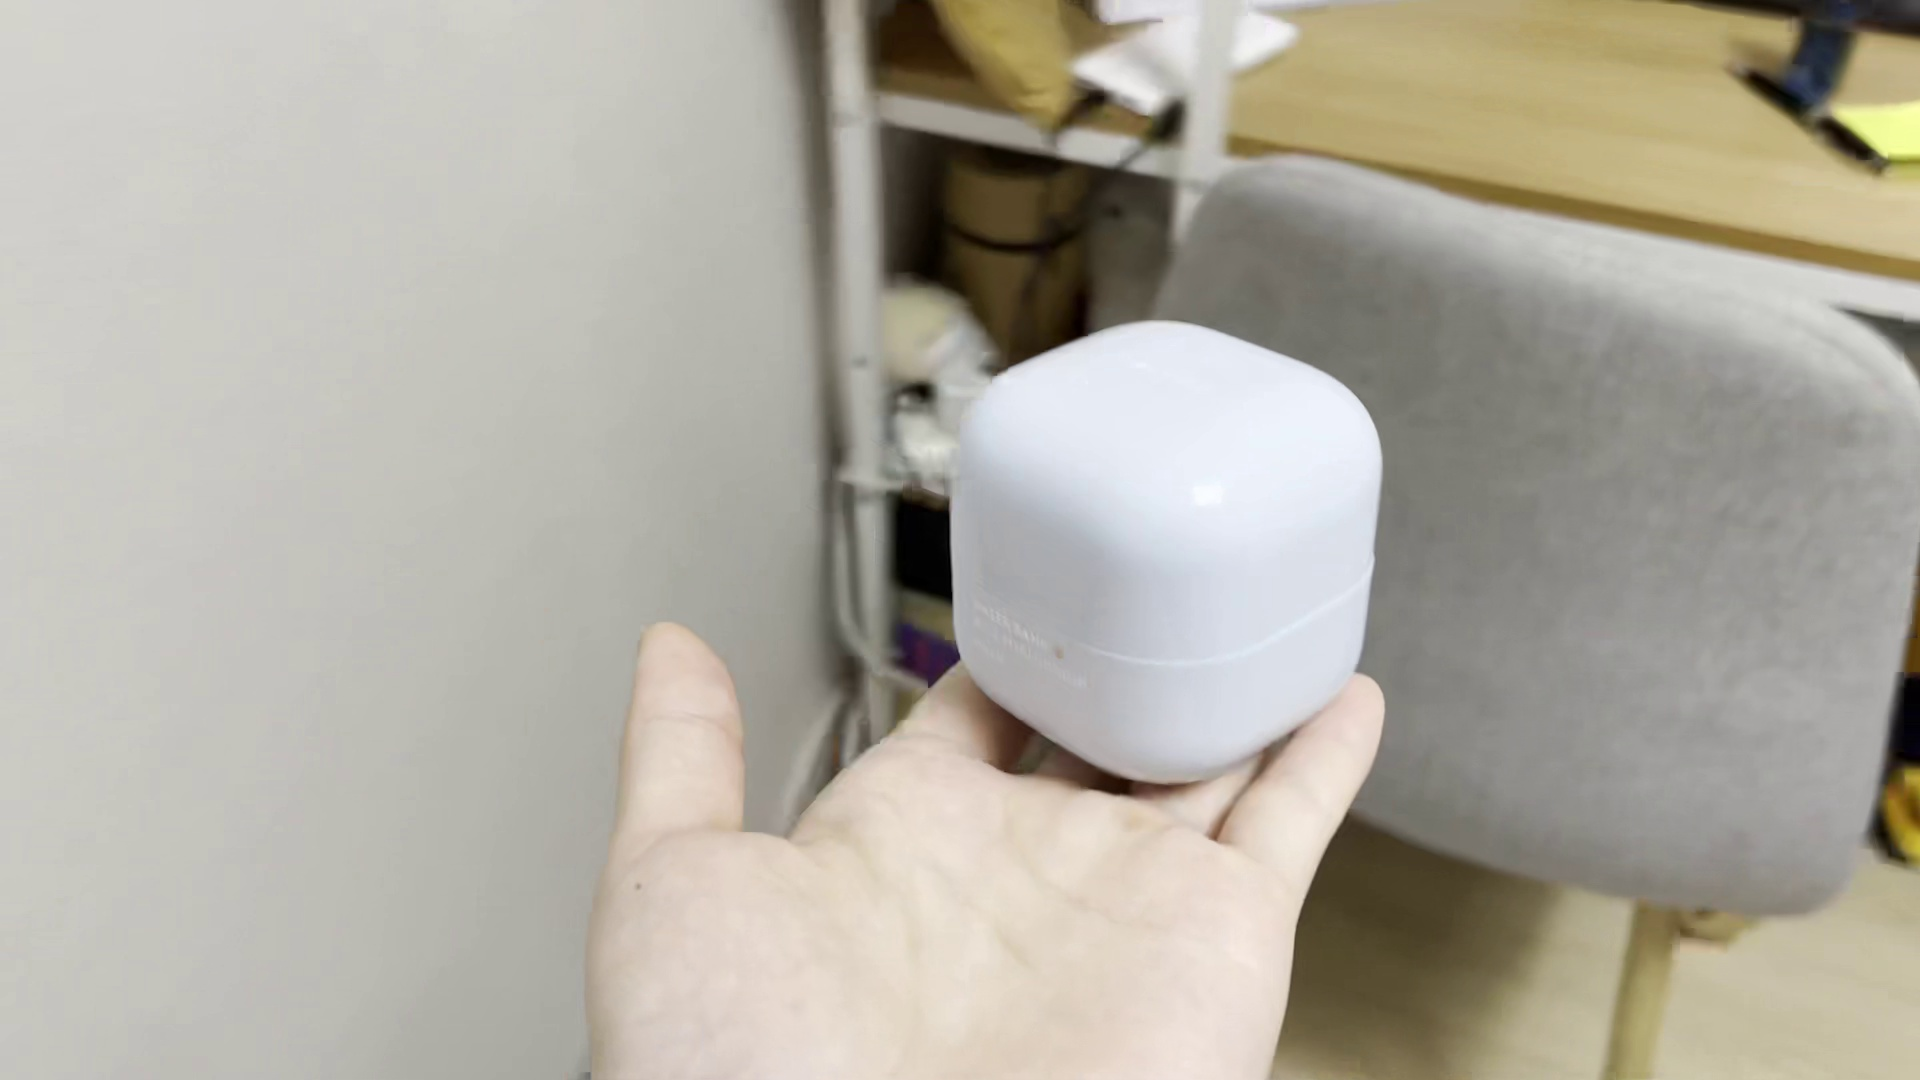cream: (949, 320, 1375, 778)
